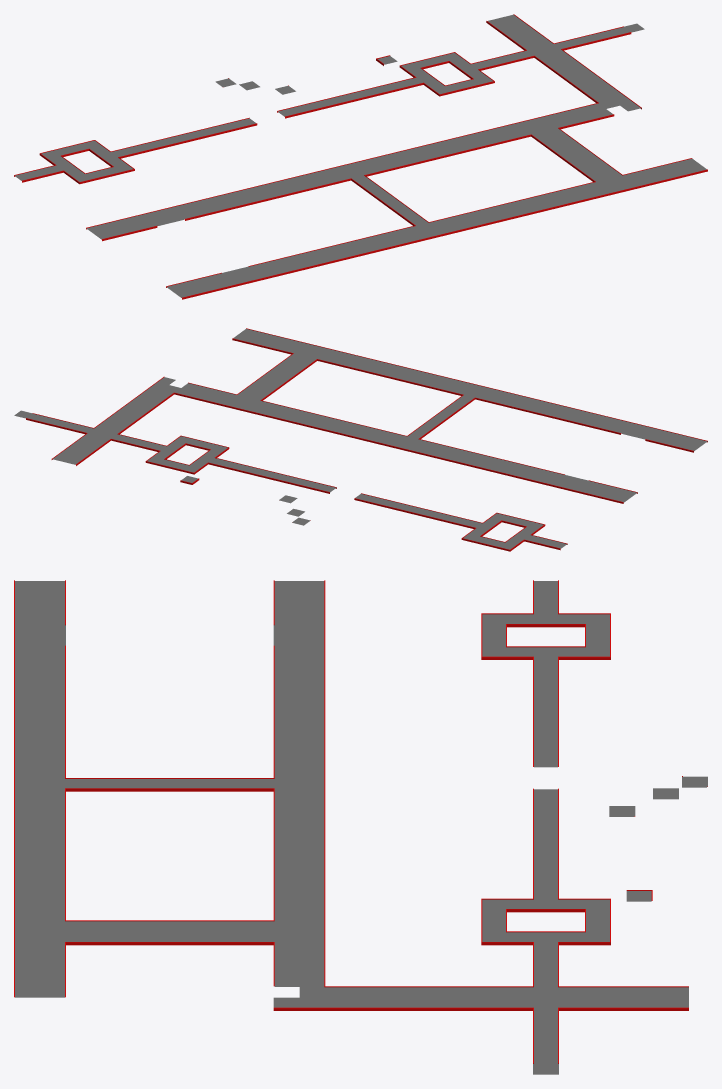
Rendered from routetest 2.fbx.
The picture shows the model from 3 angles, top to bottom: view 1: azimuth 30°, elevation 25°; view 2: azimuth 150°, elevation 25°; view 3: azimuth 270°, elevation 25°; orthographic projection. The views are drawn at different scales.
Parts seen in each view (by area): view 1: pCube416; view 2: pCube416; view 3: pCube416.
Boxes of the visible parts, x1,y1,x2,y2 form: pCube416: (14,14,707,299); pCube416: (14,328,707,551); pCube416: (14,580,707,1074).
Size of the model in its own units: 45 by 0.1323 by 26.74.
